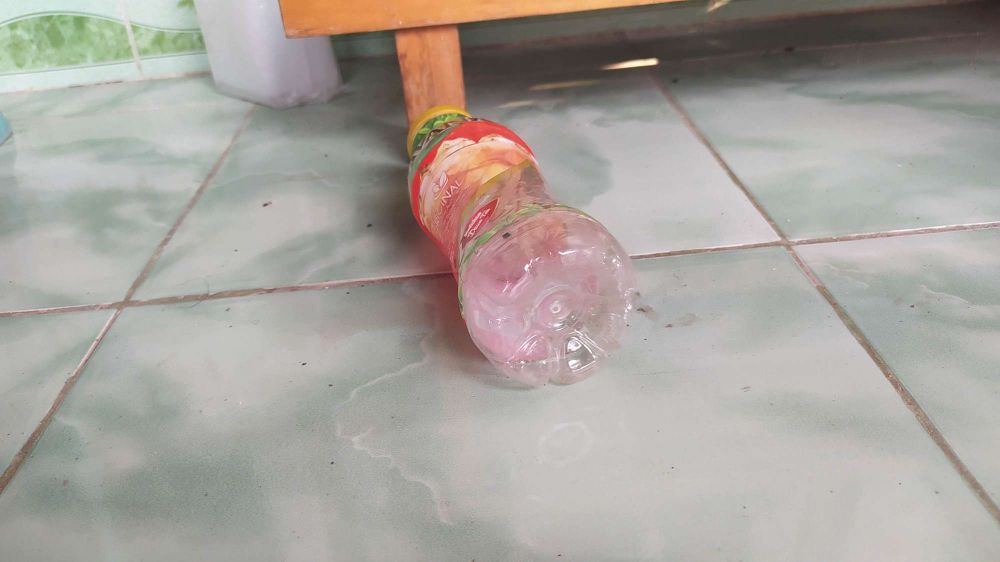botol: (374, 111, 661, 390)
